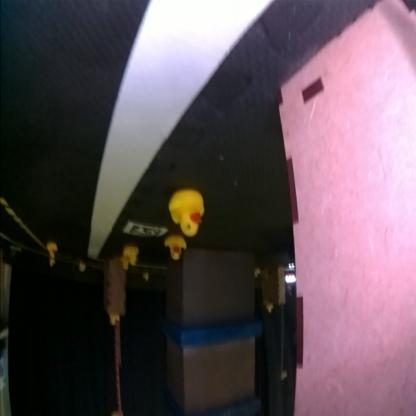Duckie: (170, 192, 204, 236), (165, 236, 187, 261), (125, 247, 139, 266)
QR code: (127, 226, 167, 238)
